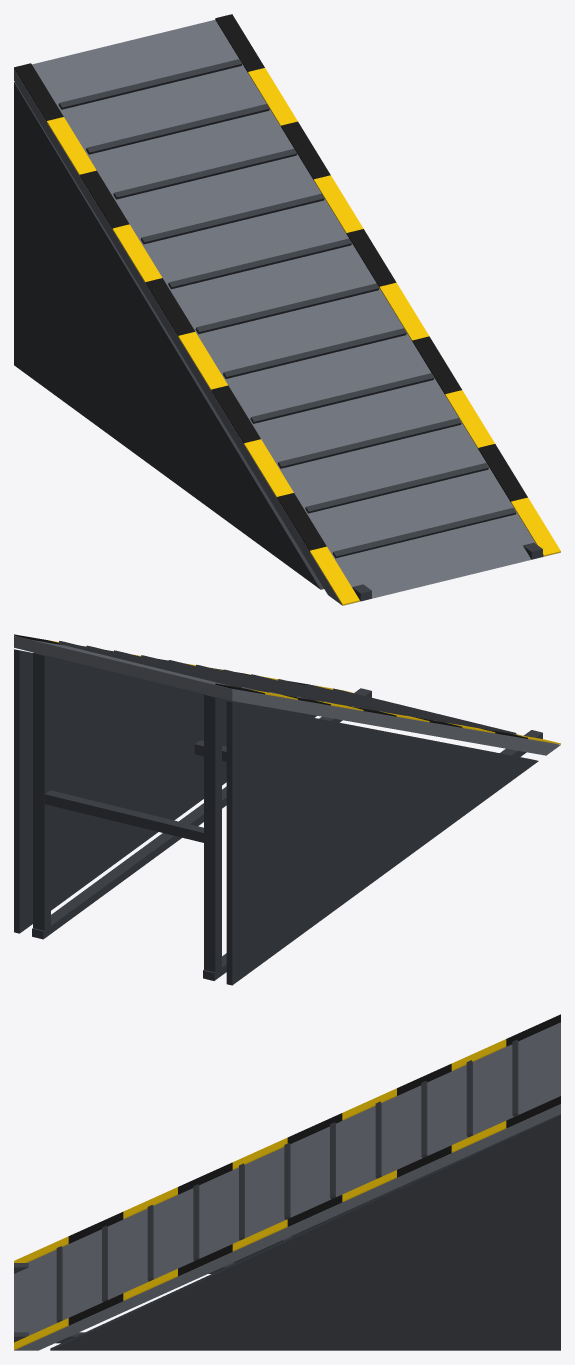
The model's file is ramp.glb.
3 views of the same model, one above another, from view 1: azimuth 30°, elevation 25°; view 2: azimuth 150°, elevation 25°; view 3: azimuth 270°, elevation 25° (orthographic). The views are drawn at different scales.
Parts seen in each view (by area): view 1: Ramp_Mesh; view 2: Ramp_Mesh; view 3: Ramp_Mesh.
Part boxes in pixels (<box>): Ramp_Mesh: <box>14,14,560,605</box>; Ramp_Mesh: <box>14,634,560,985</box>; Ramp_Mesh: <box>14,1014,560,1350</box>.
Size of the model in its own units: 2.3 by 3 by 6.
